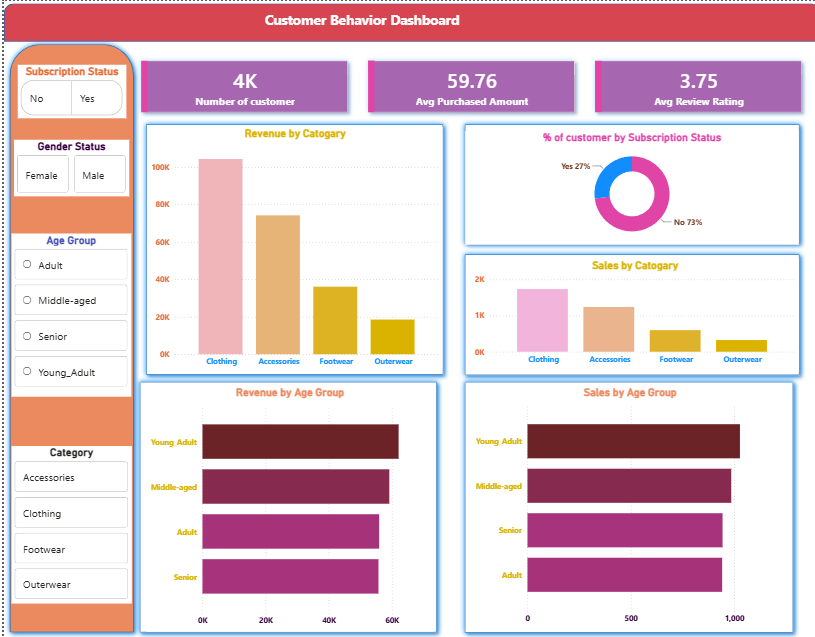

The page's visual inventory and layout, read from the dashboard file:
{"tool":"powerbi","page":{"name":"Page 1","canvas":[1280,1000],"ordinal":0},"visuals":[{"type":"cardVisual","fields":{"Data":["public Customer_behavior.Number of customer","public Customer_behavior.Avg Purchased Amount","public Customer_behavior.Avg Review Rating"]},"box":[185.9,64.8,977,139.4],"z":0},{"type":"shape","box":[0,4.9,1280.3,59.9],"z":1000},{"type":"textbox","box":[403.1,10.2,330.6,50],"z":2000},{"type":"shape","box":[212.8,184.6,484.2,410.9],"z":3000},{"type":"shape","box":[712.9,388.9,426.8,206.7],"z":4000},{"type":"shape","box":[712.9,182.2,426.8,206.7],"z":5000},{"type":"donutChart","title":"% of customer by Subscription Status","fields":{"Category":["public Customer_behavior.subscription-status"],"Y":["CountNonNull(public Customer_behavior.customer-id)"]},"box":[726.4,196.9,399.9,178.5],"z":6000},{"type":"clusteredColumnChart","title":"Revenue by Catogary","fields":{"Category":["public Customer_behavior.category"],"Y":["Sum(public Customer_behavior.purchase-amount)"]},"box":[223.6,196.6,462.9,386.5],"z":7000},{"type":"clusteredColumnChart","title":"Sales by Catogary","fields":{"Category":["public Customer_behavior.category"],"Y":["CountNonNull(public Customer_behavior.customer-id)"]},"box":[727.6,403.5,399.9,177.3],"z":8000},{"type":"shape","box":[0,59.6,212.4,940.4],"z":9000},{"type":"advancedSlicerVisual","title":"Subscription Status","fields":{"Values":["public Customer_behavior.subscription-status"]},"box":[21.3,100,170.8,84.3],"z":10000},{"type":"advancedSlicerVisual","title":"Gender Status","fields":{"Values":["public Customer_behavior.gender"]},"box":[15.7,218,180.9,88.8],"z":11000},{"type":"advancedSlicerVisual","title":"Category","fields":{"Values":["public Customer_behavior.category"]},"box":[12.4,697.8,188.8,247.2],"z":11001},{"type":"shape","box":[204.5,588.8,484.3,411.2],"z":11002},{"type":"shape","box":[697.8,588.8,441.6,411.2],"z":11003},{"type":"clusteredBarChart","title":"Revenue by Age Group","fields":{"Y":["Sum(public Customer_behavior.purchase-amount)"],"Category":["public Customer_behavior.Age_group"]},"box":[223.6,603.4,450.6,385.4],"z":11004},{"type":"clusteredBarChart","title":"Sales by Age Group","fields":{"Y":["CountNonNull(public Customer_behavior.purchase-amount)"],"Category":["public Customer_behavior.Age_group"]},"box":[712.4,603.4,413.5,383.1],"z":11005},{"type":"advancedSlicerVisual","title":"Age Group","fields":{"Values":["public Customer_behavior.Age_group"]},"box":[12.4,364,187.6,256.2],"z":11006}]}

Visuals, with their boxes in screenshot pixels (x1, y1, x2, y2), scaled from the page's 1280x1000 canvas onto the 815x637 screenshot:
cardVisual - public Customer_behavior.Number of customer x public Customer_behavior.Avg Purchased Amount: crop(118, 41, 740, 130)
shape: crop(0, 3, 814, 41)
textbox: crop(257, 6, 467, 38)
shape: crop(135, 118, 444, 379)
shape: crop(454, 248, 726, 379)
shape: crop(454, 116, 726, 248)
"% of customer by Subscription Status" donutChart: crop(463, 125, 717, 239)
"Revenue by Catogary" clusteredColumnChart: crop(142, 125, 437, 371)
"Sales by Catogary" clusteredColumnChart: crop(463, 257, 718, 370)
shape: crop(0, 38, 135, 636)
"Subscription Status" advancedSlicerVisual: crop(14, 64, 122, 117)
"Gender Status" advancedSlicerVisual: crop(10, 139, 125, 195)
"Category" advancedSlicerVisual: crop(8, 444, 128, 602)
shape: crop(130, 375, 439, 636)
shape: crop(444, 375, 725, 636)
"Revenue by Age Group" clusteredBarChart: crop(142, 384, 429, 630)
"Sales by Age Group" clusteredBarChart: crop(454, 384, 717, 628)
"Age Group" advancedSlicerVisual: crop(8, 232, 127, 395)
